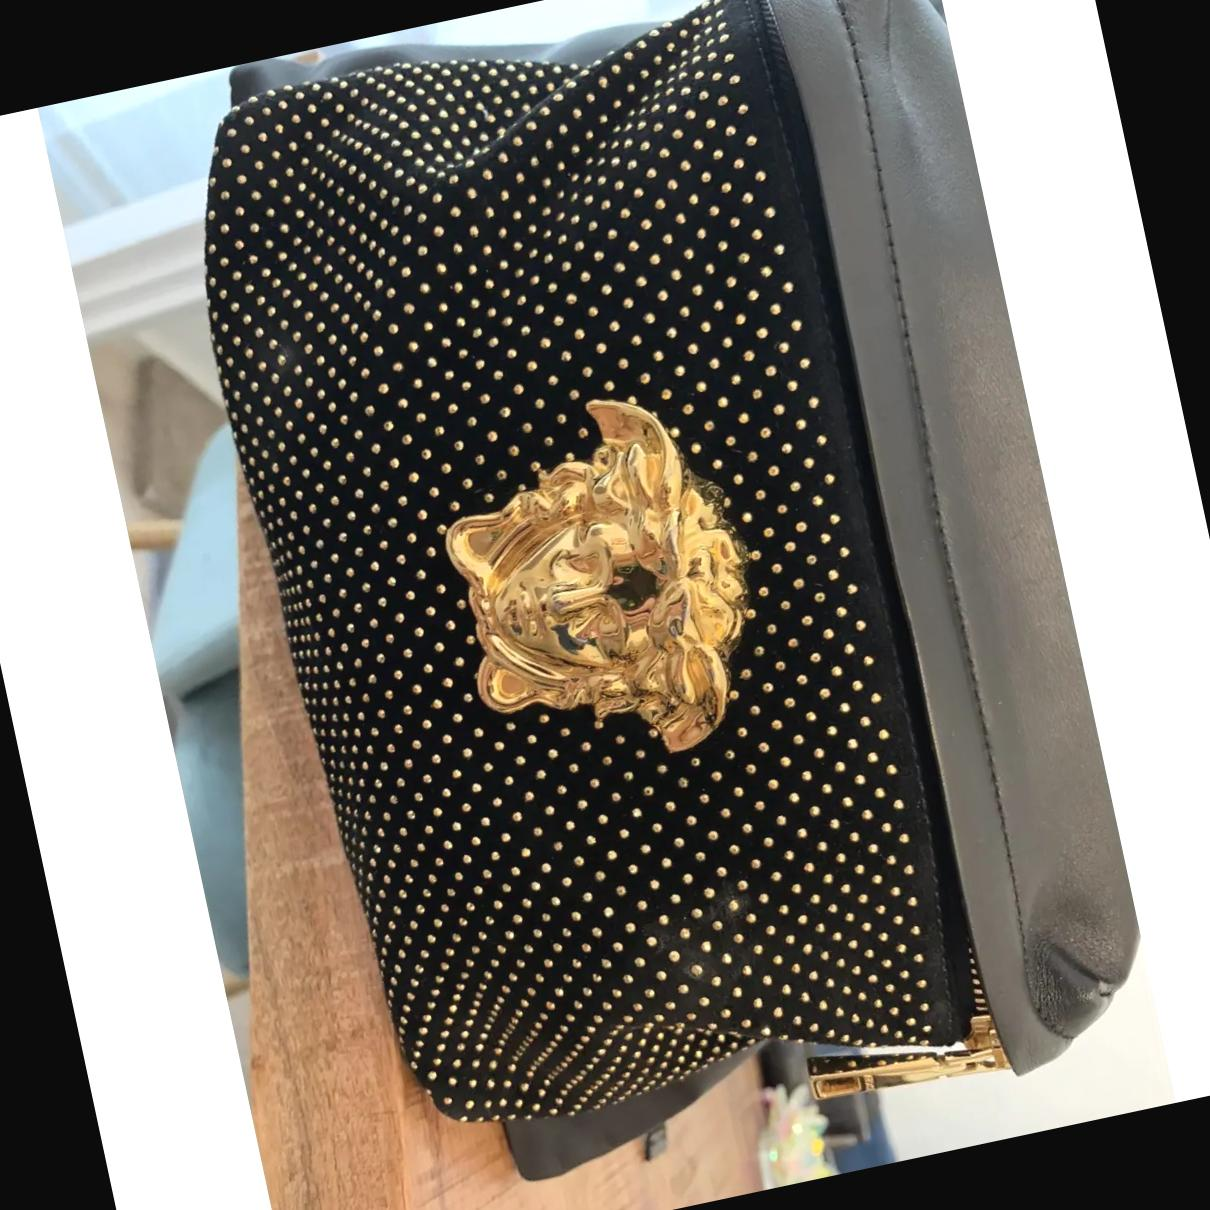VERSACE: (423, 375, 779, 786)
